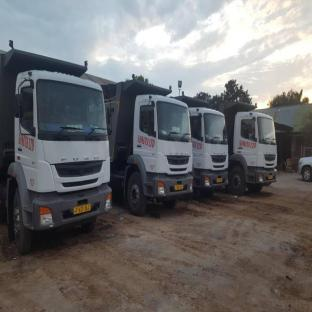Vehicle: (0, 43, 114, 244), (105, 78, 193, 223), (230, 103, 284, 208), (195, 98, 234, 210)
